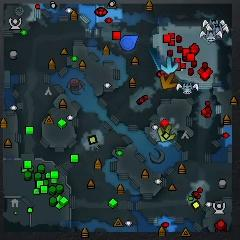p1: (120, 35, 139, 51)
x2: (158, 125, 175, 141)
x3: (161, 56, 179, 76)
x5: (160, 73, 177, 89)
